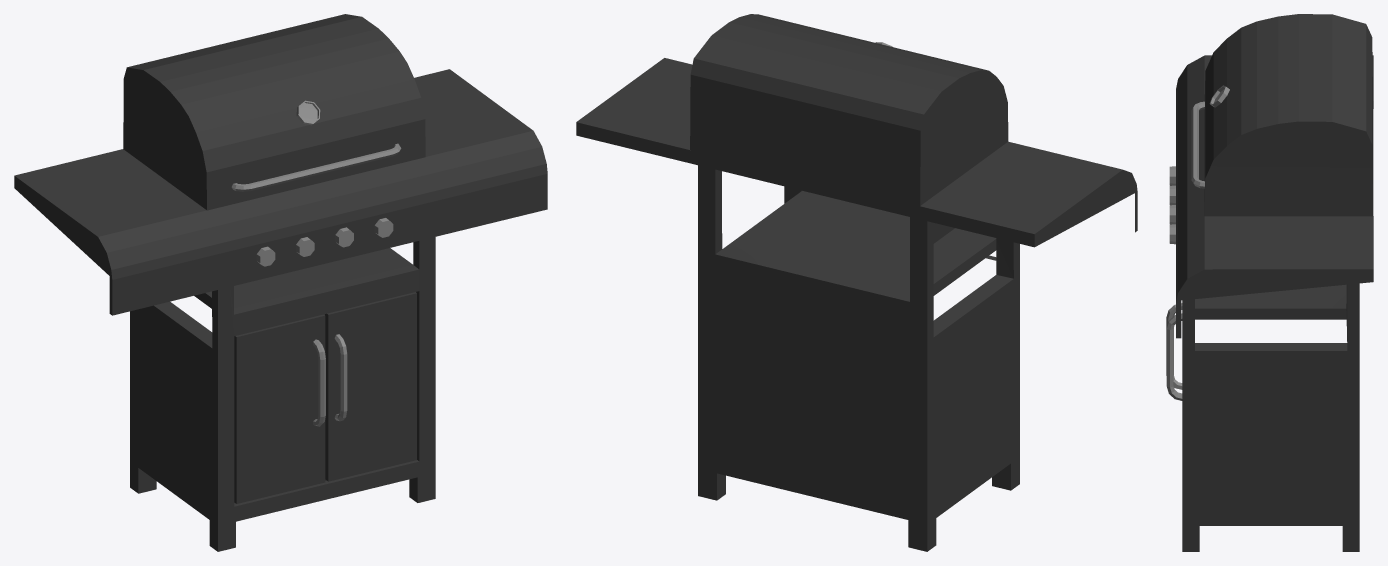
Rendered from bbq_grill.glb.
3 renders of one model, left to right at view 1: azimuth 30°, elevation 25°; view 2: azimuth 150°, elevation 25°; view 3: azimuth 270°, elevation 25°, orthographic. The views are drawn at different scales.
Visible parts, largest first — view 1: Barbecue; view 2: Barbecue; view 3: Barbecue.
Boxes of the visible parts, x1,y1,x2,y2 form: Barbecue: [14, 14, 547, 551]; Barbecue: [576, 14, 1137, 551]; Barbecue: [1166, 14, 1373, 551].
Size of the model in its own units: 1.23 by 1.15 by 0.5017.
Materials: 1 (1 with a texture image).
